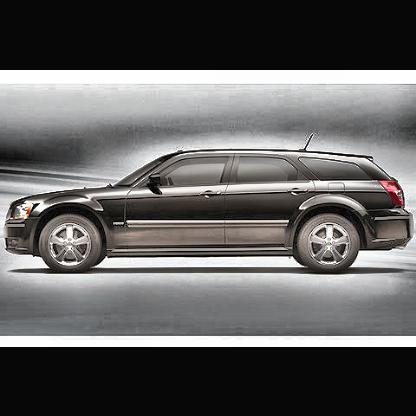Dodge Magnum Wagon 2008: (4, 133, 416, 276)
